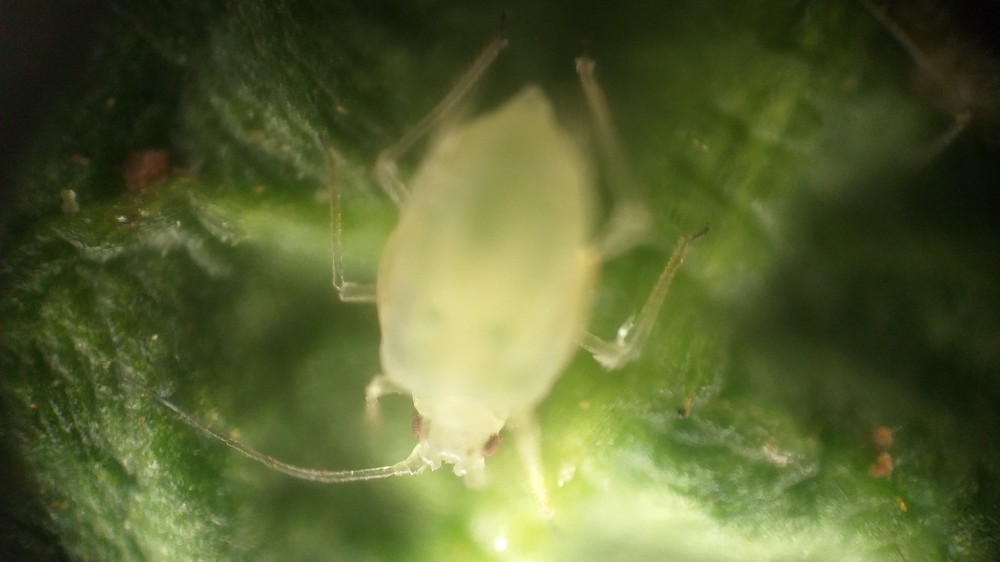Pulgon: (219, 29, 738, 553)
